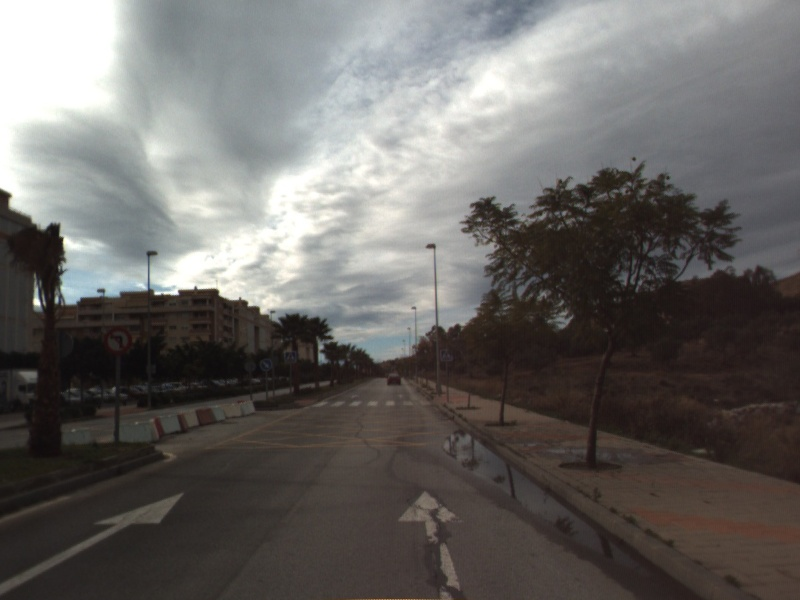STRAIGHT: (1, 489, 188, 596), (396, 488, 471, 600)
